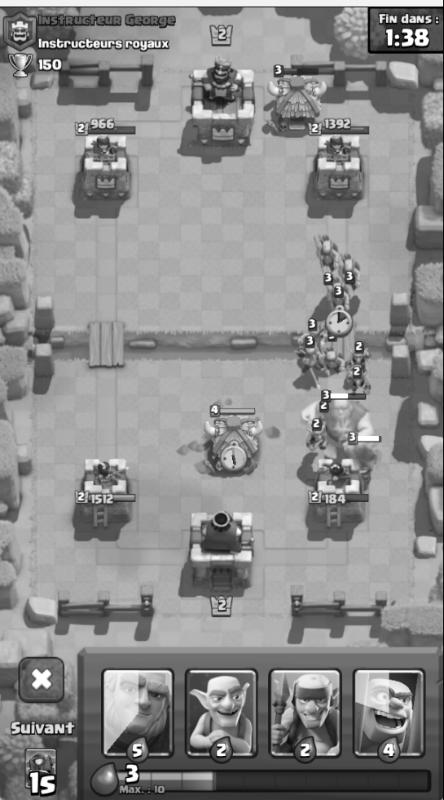geant: (303, 390, 374, 460)
gobelin: (301, 415, 332, 455), (346, 368, 371, 399), (346, 344, 371, 373)
gobelin_lances: (311, 233, 340, 272), (321, 345, 346, 383), (296, 322, 328, 351), (340, 255, 362, 293), (298, 344, 319, 383), (326, 308, 352, 336), (331, 278, 350, 314)
mousquetaire: (342, 440, 378, 489)
